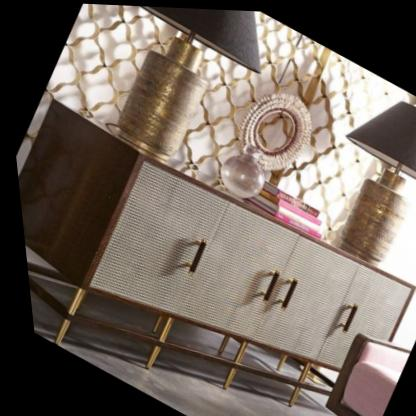Sideboard: (14, 100, 410, 390)
